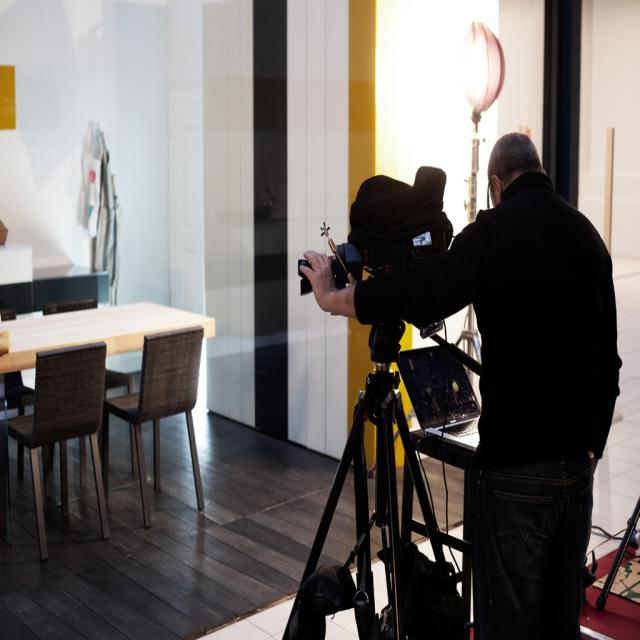chair: (5, 340, 109, 563), (102, 323, 206, 528), (0, 242, 34, 316)
desk: (19, 304, 247, 564)
laptop: (398, 341, 480, 437)
person: (310, 131, 622, 632)
